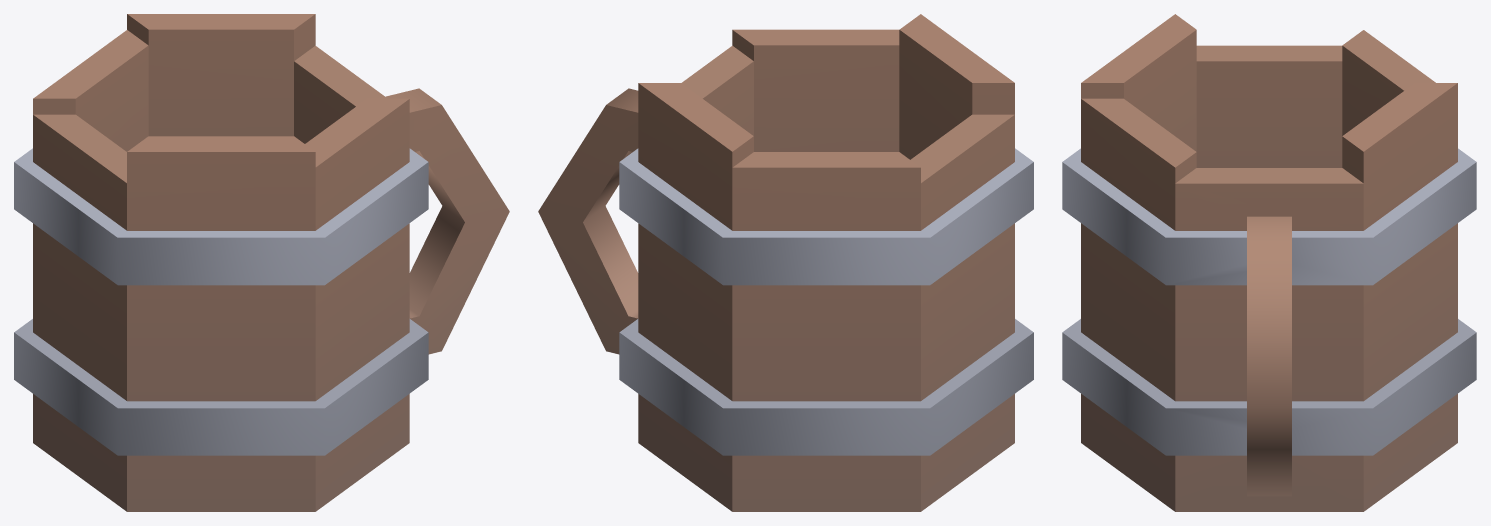
File: mug.glb
3 views of the same model, side by side, from view 1: azimuth 30°, elevation 25°; view 2: azimuth 150°, elevation 25°; view 3: azimuth 270°, elevation 25° (orthographic).
Visible parts, largest first — view 1: mug; view 2: mug; view 3: mug.
Boxes of the visible parts, x1,y1,x2,y2 form: mug: [14, 14, 509, 511]; mug: [538, 14, 1033, 511]; mug: [1062, 14, 1476, 511].
Size of the model in its own units: 0.3437 by 0.2734 by 0.2851.
